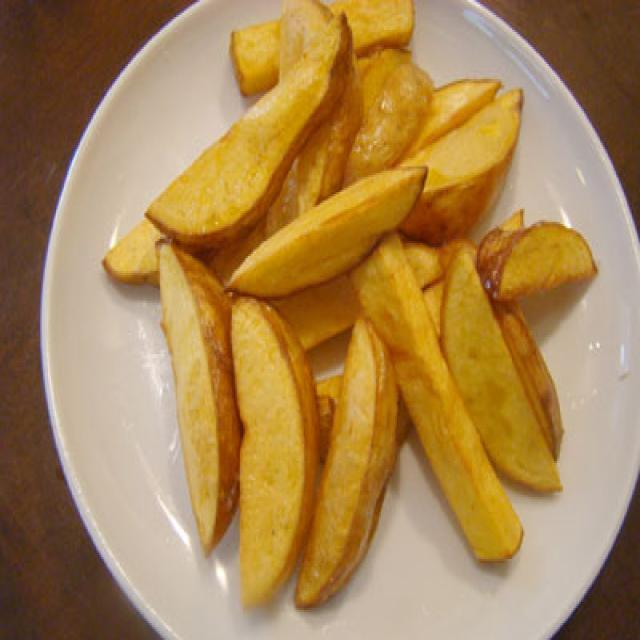French Fries: (107, 0, 597, 621)
